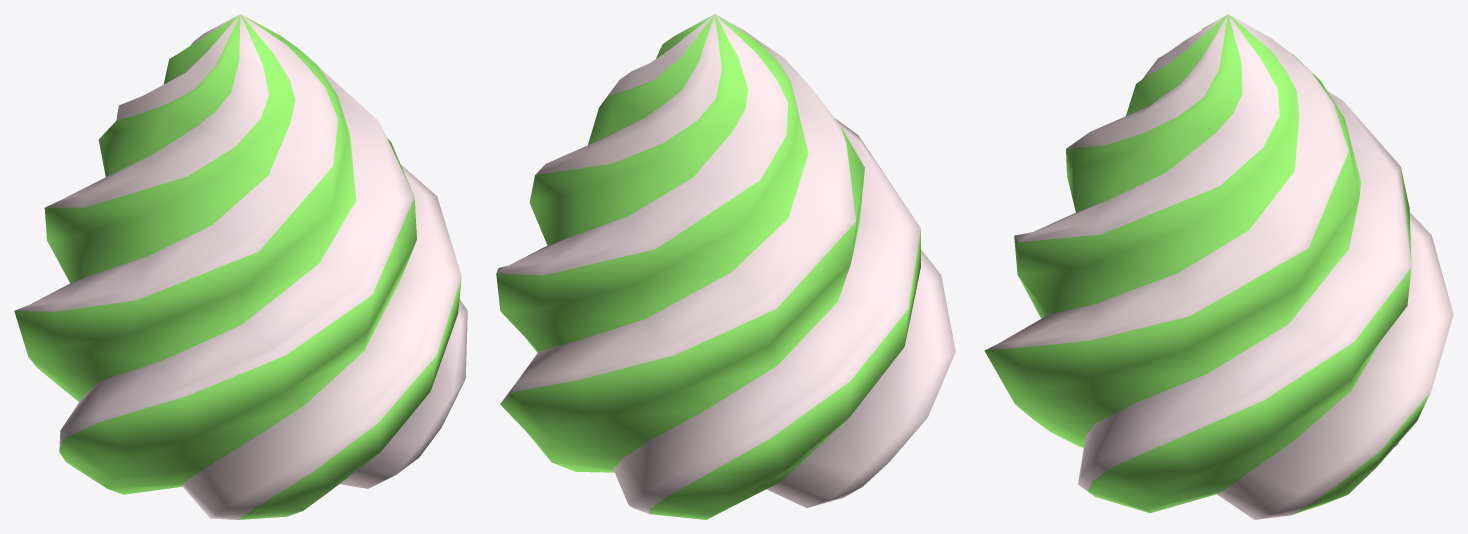
The model's file is Ice Cream Spiral C White Green.fbx.
3 renders of one model, left to right at view 1: azimuth 30°, elevation 25°; view 2: azimuth 150°, elevation 25°; view 3: azimuth 270°, elevation 25°, orthographic.
Visible parts, largest first — view 1: Ice Cream Spiral C White Green; view 2: Ice Cream Spiral C White Green; view 3: Ice Cream Spiral C White Green.
Boxes of the visible parts, box(x1,y1,x2,y2) form: Ice Cream Spiral C White Green: box(14, 14, 467, 519); Ice Cream Spiral C White Green: box(496, 14, 955, 519); Ice Cream Spiral C White Green: box(984, 14, 1453, 519).
Size of the model in its own units: 0.4215 by 0.4617 by 0.4308.
